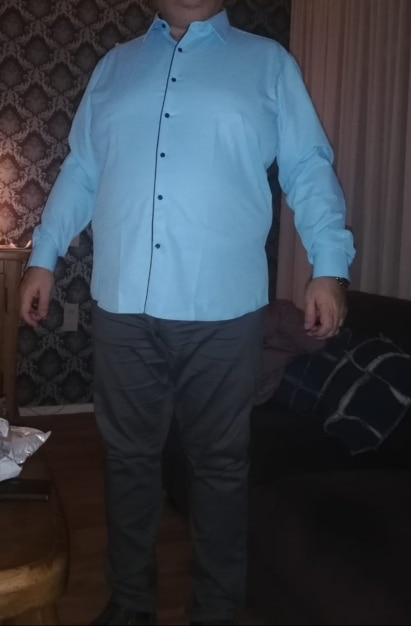shirts: (31, 14, 354, 319)
